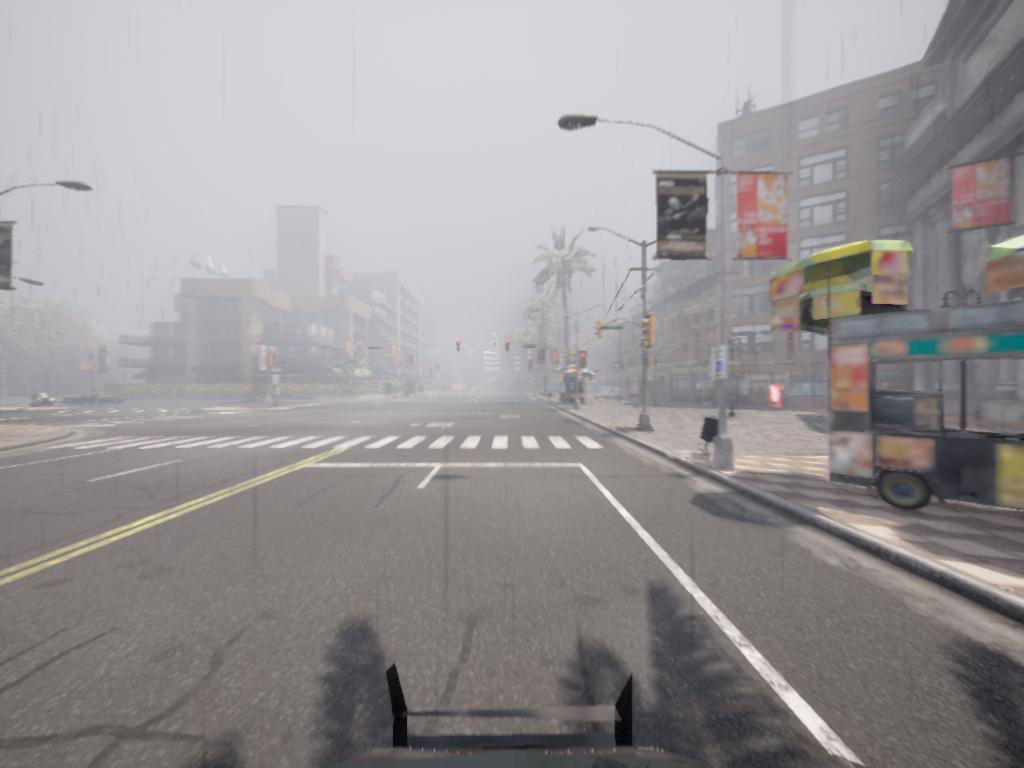traffic_light: (644, 316, 658, 348), (581, 354, 591, 370), (503, 340, 511, 355), (454, 339, 463, 351), (390, 343, 397, 357), (347, 343, 352, 354)
